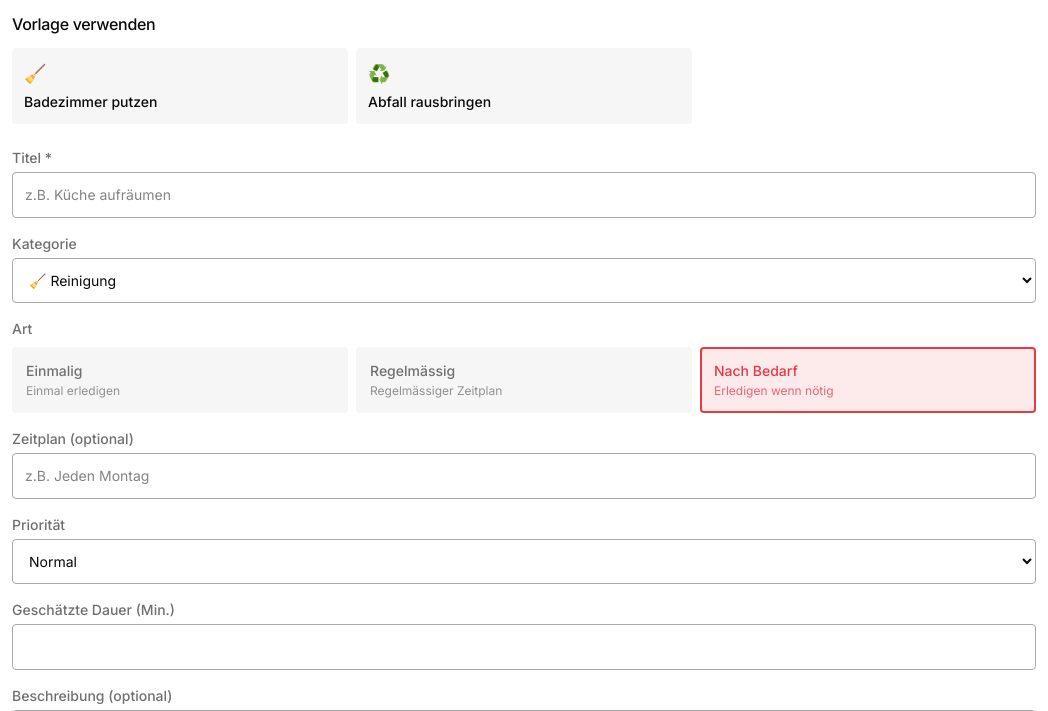
CreateChoreForm › shows schedule field again when switching back to RECURRING
Click the button "Einmalig Einmal erledigen".
click(54, 370)  # box [12,347,348,413]
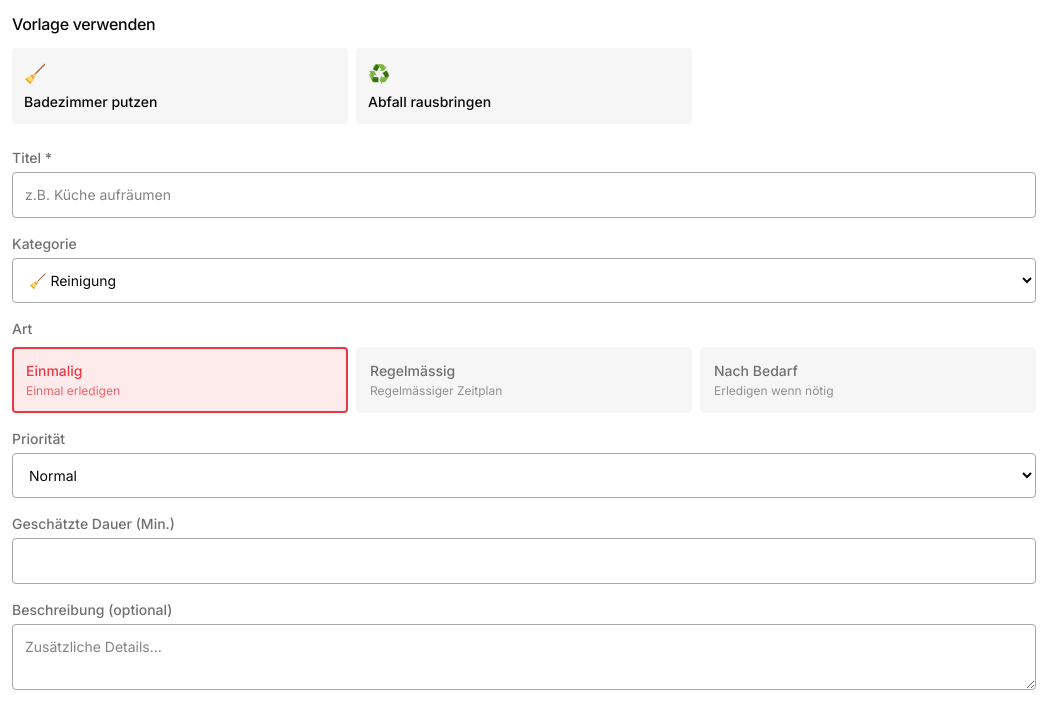
Click the button "Regelmässig Regelmässiger Zeitplan".
click(413, 370)  # box [356,347,692,413]
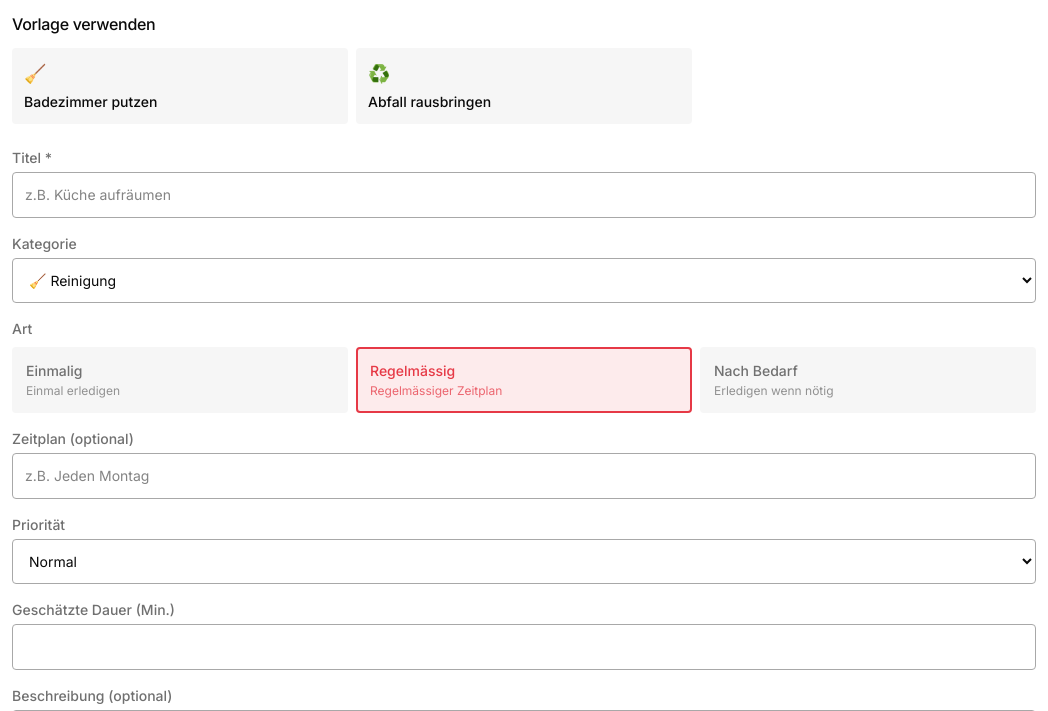
Now the field labelled "Zeitplan (optional)" is shown, box [12,453,1036,499]
